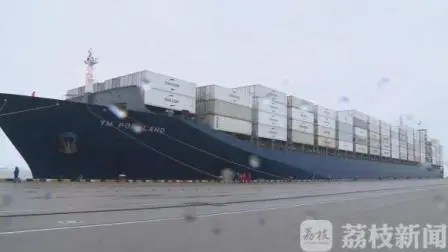Cargoship: (3, 47, 442, 182)
